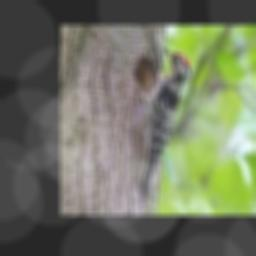Woodpecker: (134, 45, 190, 201)
